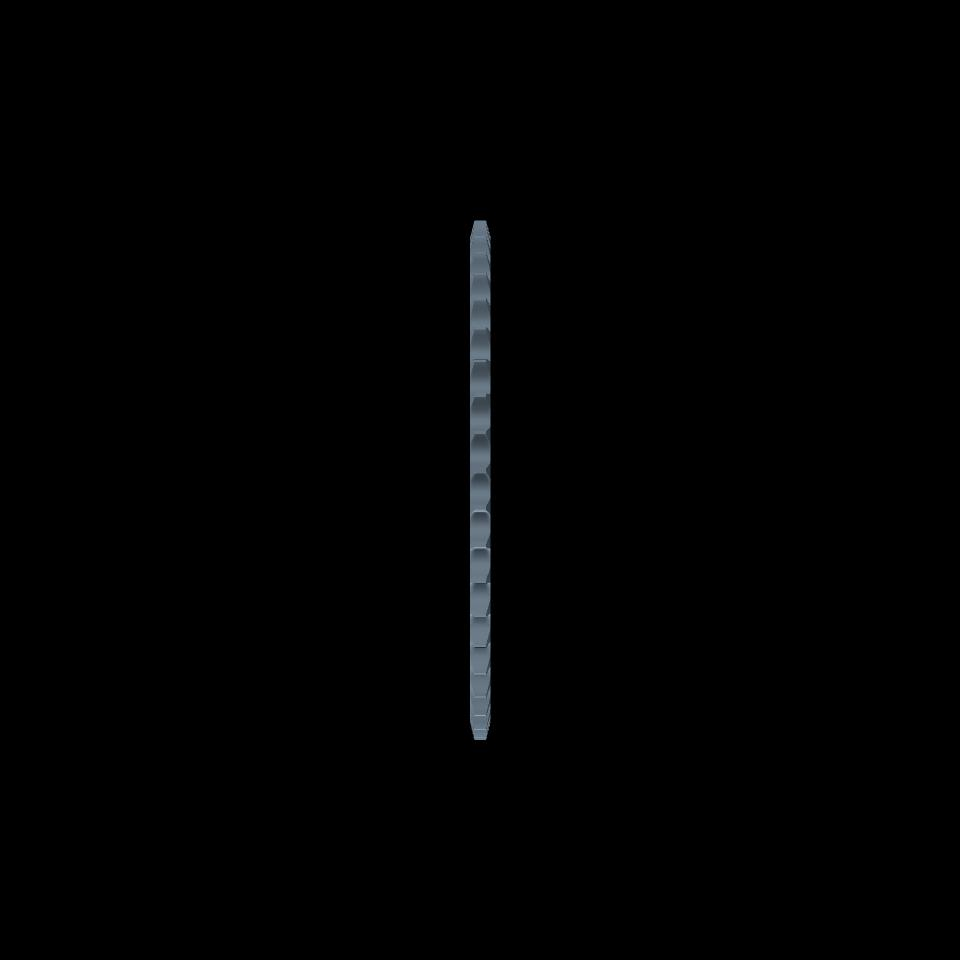Straight: (475, 221, 485, 738)
